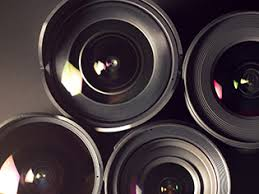flash: (77, 49, 150, 95)
lens: (9, 152, 77, 193), (134, 159, 197, 192), (219, 62, 259, 105)
